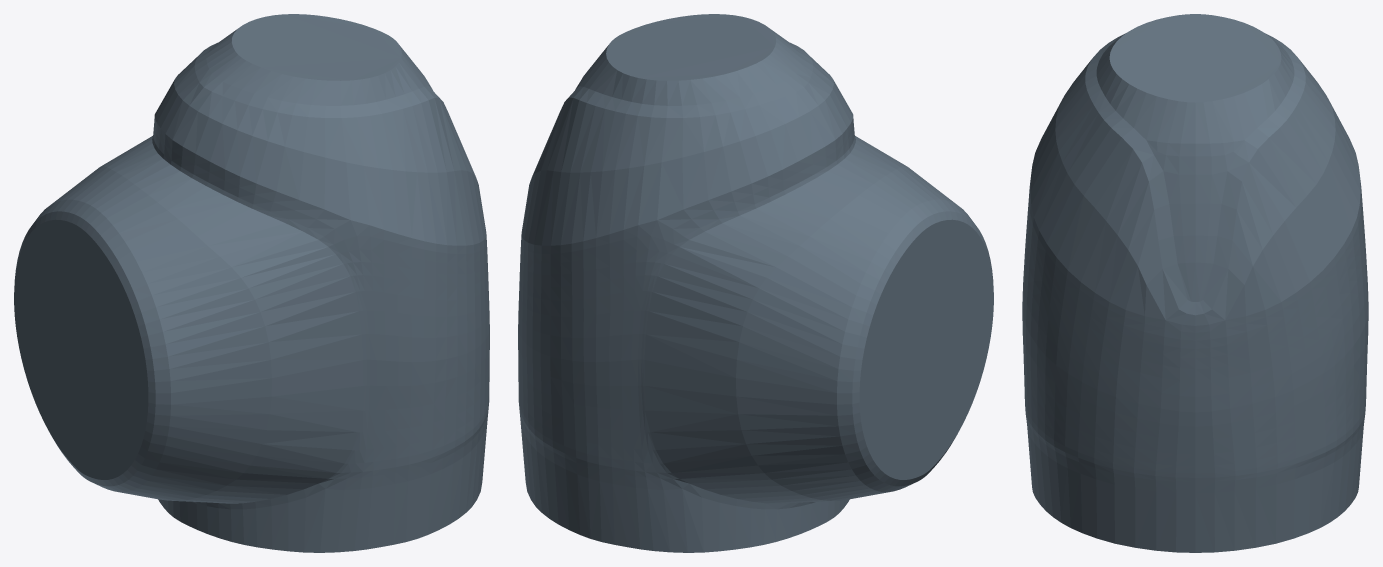
3 renders of one model, left to right at view 1: azimuth 30°, elevation 25°; view 2: azimuth 150°, elevation 25°; view 3: azimuth 270°, elevation 25°, orthographic.
Visible parts, largest first — view 1: MF0609_2_2; view 2: MF0609_2_2; view 3: MF0609_2_2.
Boxes of the visible parts, box(x1,y1,x2,y2) form: MF0609_2_2: box(14, 14, 489, 552); MF0609_2_2: box(518, 14, 993, 552); MF0609_2_2: box(1022, 14, 1368, 552).
Size of the model in its own units: 175 by 138 by 191.
